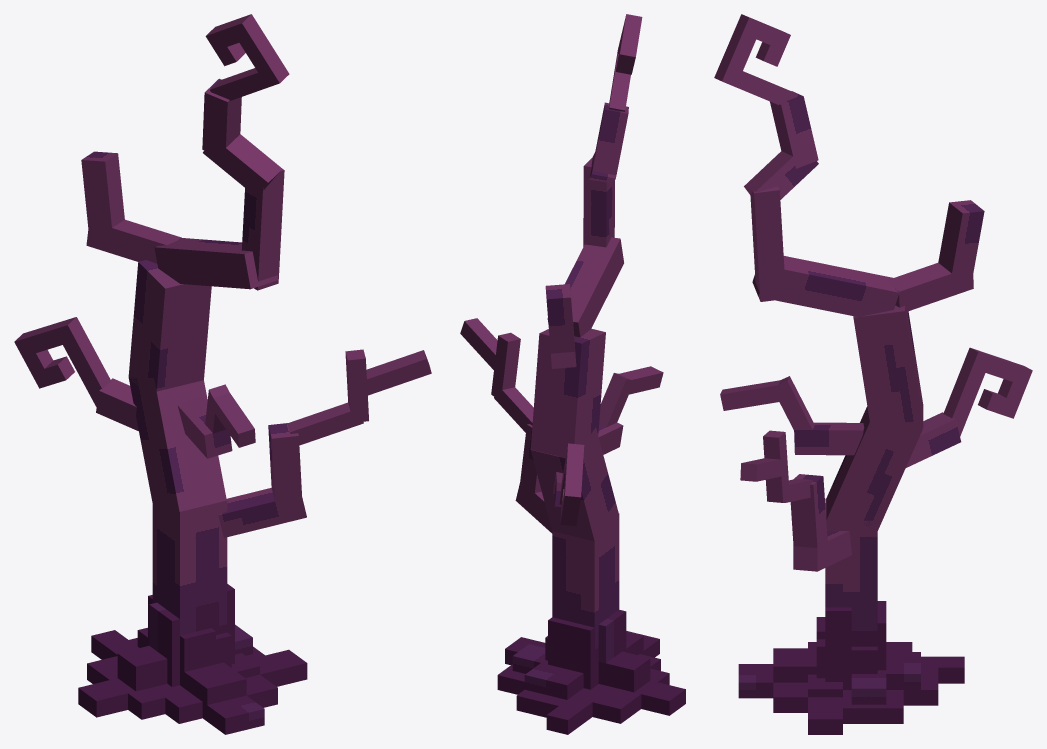
Rendered from environment_3x3_spookytree.gltf.
3 renders of one model, left to right at view 1: azimuth 30°, elevation 25°; view 2: azimuth 150°, elevation 25°; view 3: azimuth 270°, elevation 25°, orthographic. The views are drawn at different scales.
Parts seen in each view (by area): view 1: Tree-Local, tree03-Local, tree02-Local, tree04-Local, tree14$$(1)-Local, tree14-Local, tree05-Local, tree07-Local, tree08-Local, tree11-Local, tree06-Local, tree10-Local (+7 smaller); view 2: Tree-Local, tree03-Local, tree02-Local, tree04-Local, tree05-Local, tree14-Local, tree13-Local, tree07-Local, tree14$$(1)-Local, tree15-Local, tree16-Local, tree12$$(1)-Local (+6 smaller); view 3: Tree-Local, tree02-Local, tree03-Local, tree04-Local, tree14$$(1)-Local, tree14-Local, tree05-Local, tree07-Local, tree06-Local, tree13-Local, tree10-Local, tree17-Local (+7 smaller).
Boxes of the visible parts, x1,y1,x2,y2 form: Tree-Local: [78, 493, 307, 734]; tree03-Local: [128, 260, 211, 391]; tree02-Local: [128, 377, 226, 511]; tree04-Local: [154, 238, 278, 289]; tree14$$(1)-Local: [14, 317, 110, 406]; tree14-Local: [205, 14, 289, 100]; tree05-Local: [241, 169, 284, 290]; tree07-Local: [81, 151, 124, 227]; tree08-Local: [218, 488, 306, 537]; tree11-Local: [203, 134, 282, 197]; tree06-Local: [86, 219, 181, 263]; tree10-Local: [268, 423, 302, 501]; Tree-Local: [497, 513, 685, 734]; tree03-Local: [530, 328, 605, 457]; tree02-Local: [531, 427, 618, 545]; tree04-Local: [547, 237, 623, 337]; tree05-Local: [583, 158, 614, 247]; tree14-Local: [609, 14, 642, 111]; tree13-Local: [592, 102, 628, 175]; tree07-Local: [545, 284, 575, 353]; tree14$$(1)-Local: [559, 443, 584, 526]; tree15-Local: [491, 332, 520, 400]; tree16-Local: [460, 318, 500, 372]; tree12$$(1)-Local: [599, 373, 630, 427]; Tree-Local: [738, 498, 964, 734]; tree02-Local: [826, 406, 923, 537]; tree03-Local: [853, 305, 923, 429]; tree04-Local: [752, 256, 899, 316]; tree14$$(1)-Local: [943, 347, 1032, 436]; tree14-Local: [714, 14, 798, 104]; tree05-Local: [750, 186, 786, 301]; tree07-Local: [938, 200, 984, 275]; tree06-Local: [887, 262, 973, 311]; tree13-Local: [770, 91, 818, 168]; tree10-Local: [790, 474, 827, 547]; tree17-Local: [794, 422, 864, 455].
Size of the model in its own units: 37.07 by 85.98 by 36.67.
Materials: 20 (20 with a texture image).
